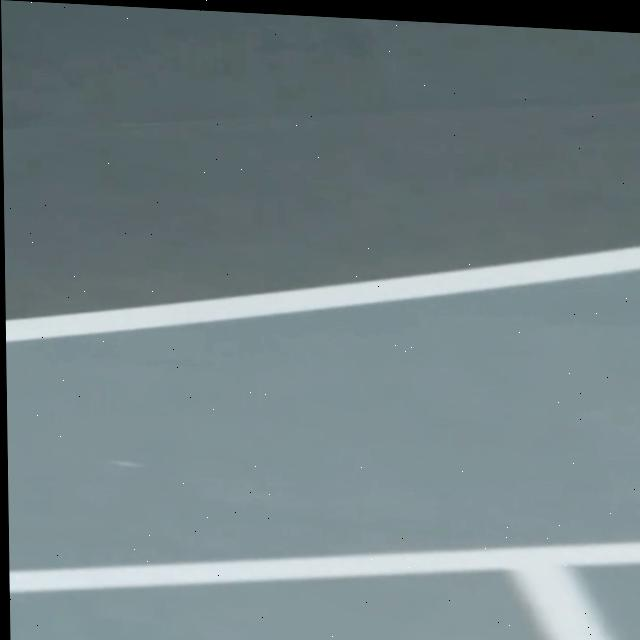left: (5, 247, 640, 343)
